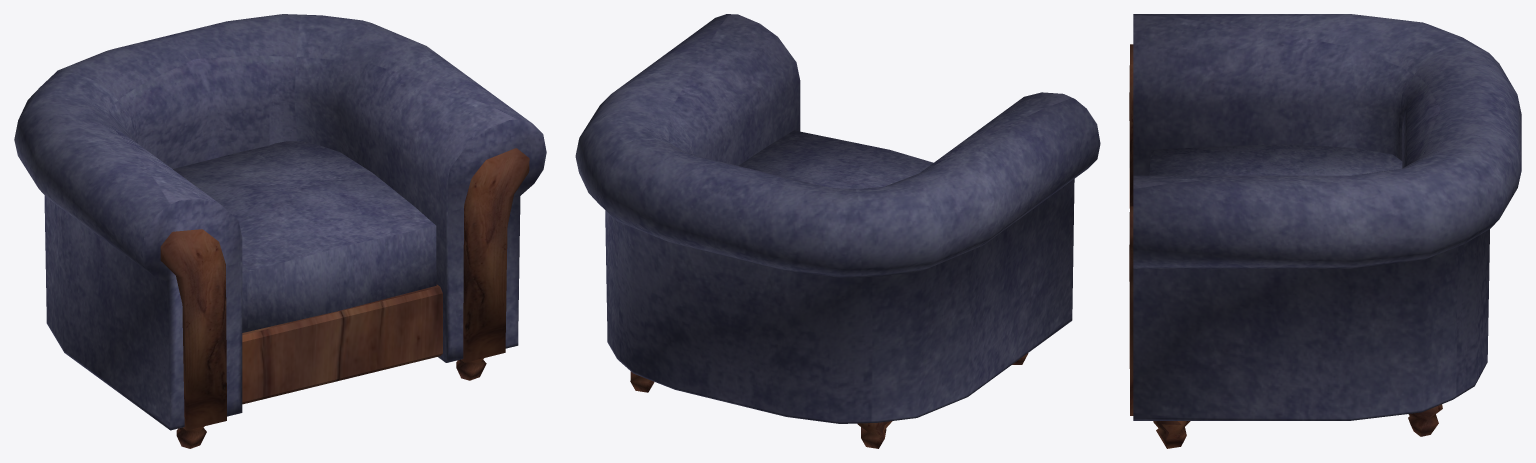
Rendered from sofa_chair_3.fbx.
3 renders of one model, left to right at view 1: azimuth 30°, elevation 25°; view 2: azimuth 150°, elevation 25°; view 3: azimuth 270°, elevation 25°, orthographic. The views are drawn at different scales.
Visible parts, largest first — view 1: Cube; view 2: Cube; view 3: Cube.
Boxes of the visible parts, x1=… form: Cube: x1=14, y1=14, x2=546, y2=448; Cube: x1=575, y1=14, x2=1100, y2=448; Cube: x1=1129, y1=14, x2=1521, y2=448.
Bounding box in the file's own units: 195 × 122 × 159.
